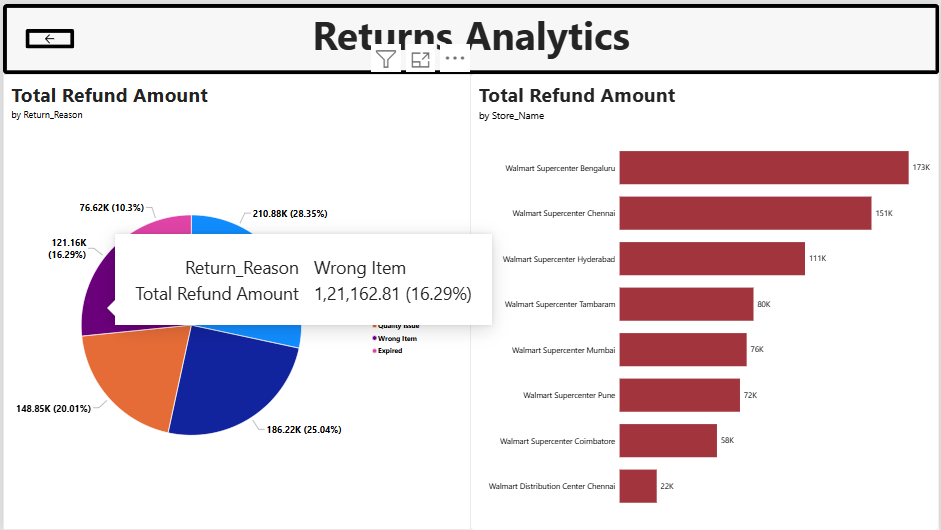

This screenshot's page, from the dashboard's own definition file:
{"tool":"powerbi","page":{"name":"Page 7","canvas":[1920,1080],"ordinal":6},"visuals":[{"type":"textbox","box":[0,0,1920.4,144.3],"z":0},{"type":"actionButton","box":[46.1,52.1,100,40],"z":1},{"type":"pieChart","fields":{"Category":["Returns.Return_Reason"],"Y":["Returns.Total Refund Amount"]},"box":[0,144.3,960.2,936.1],"z":2},{"type":"clusteredBarChart","fields":{"Category":["Stores.Store_Name"],"Y":["Returns.Total Refund Amount"]},"box":[960,144,960,936],"z":3}]}

Visuals, with their boxes in screenshot pixels (x1, y1, x2, y2), scaled from the page's 1920x1080 canvas onto the 941x530 screenshot:
textbox: 0 0 940 71
actionButton: 23 26 72 45
pieChart - Returns.Return_Reason x Returns.Total Refund Amount: 0 71 471 529
clusteredBarChart - Stores.Store_Name x Returns.Total Refund Amount: 470 71 940 529
